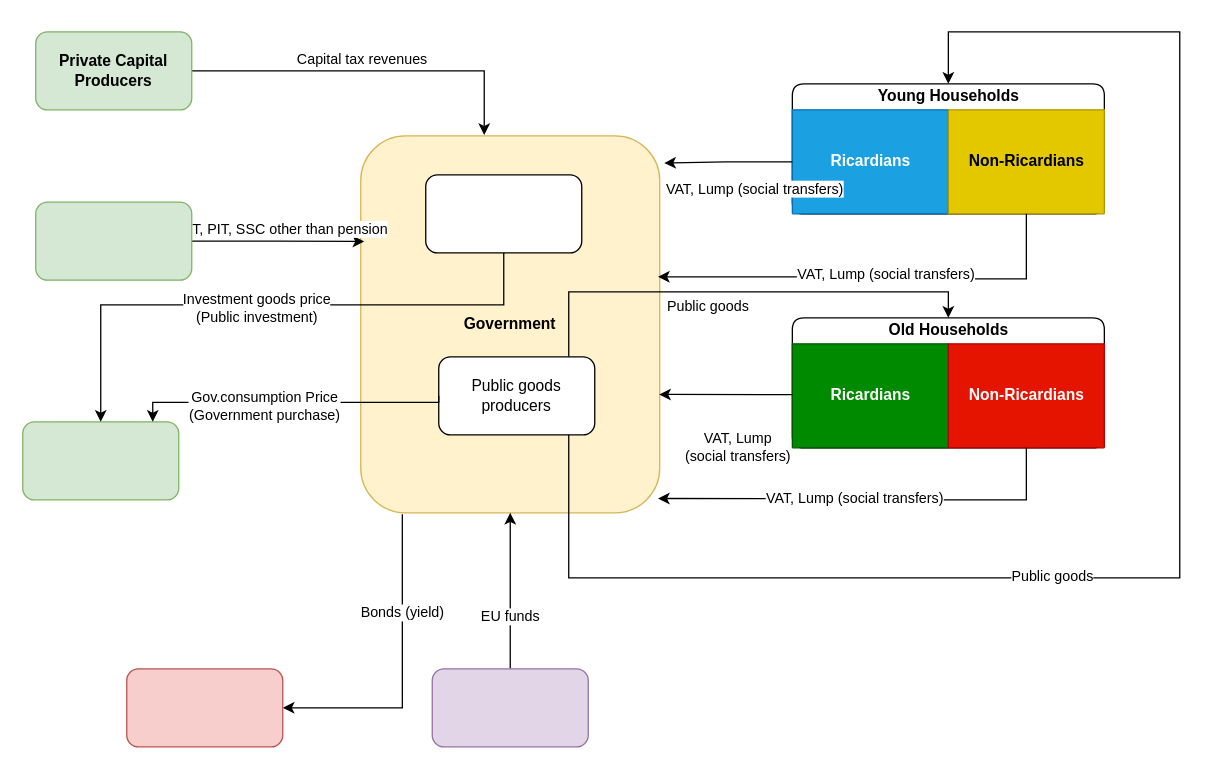
Some shapes in this 1213 by 770 pixel diagram are drawn without their labels. Here are the shapes that lost their labels. From the top down, the box of each, then its label:
(424, 174, 582, 253): Public Capital Producers
(34, 201, 192, 280): Domestic Producers
(21, 421, 179, 500): Retailers
(125, 668, 283, 747): Financial Markets, Banks
(431, 668, 588, 747): Foreign Economy
